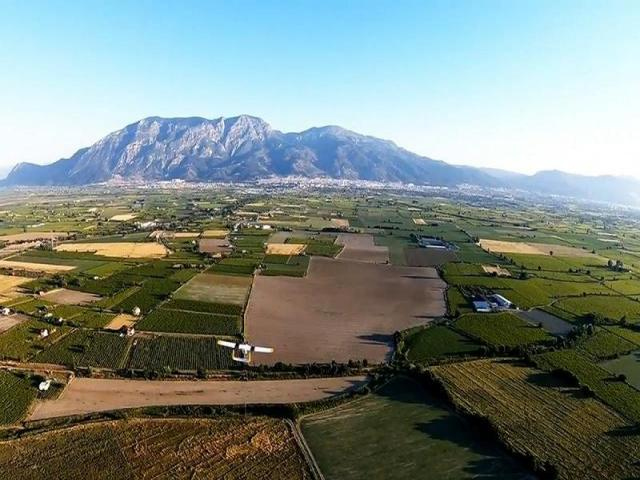hedef: (214, 335, 278, 369)
